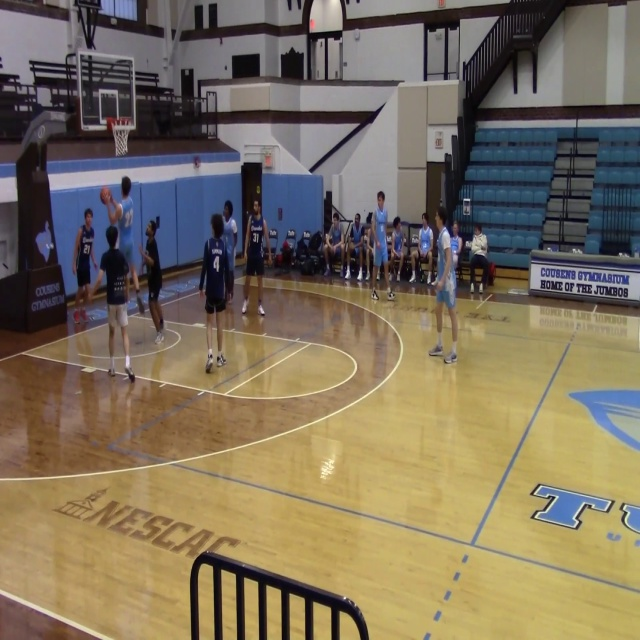Basketball: (100, 188, 111, 205)
